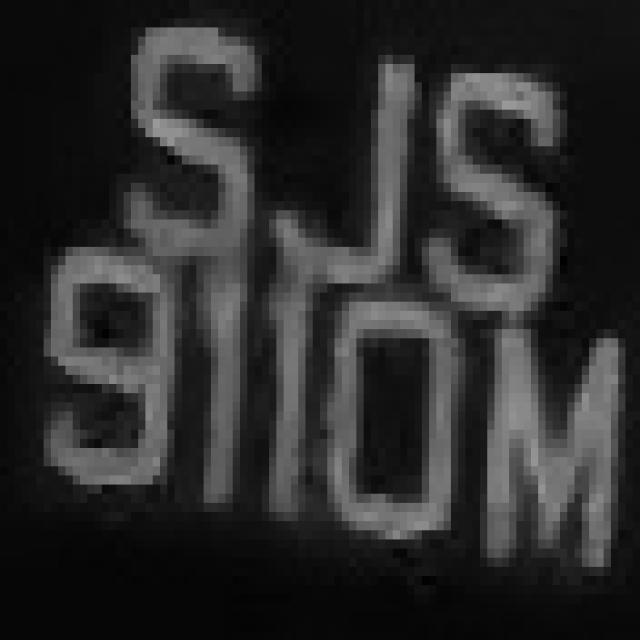0: (328, 265, 466, 567)
1: (247, 283, 313, 567), (189, 284, 255, 530)
9: (44, 201, 167, 540)
J: (240, 18, 415, 311)
M: (487, 329, 618, 594)
S: (415, 46, 560, 338), (109, 27, 255, 311)
